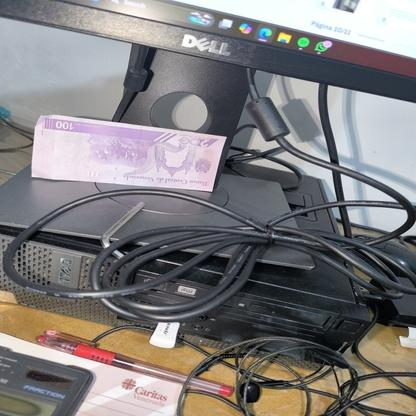vef_back: (31, 113, 227, 191)
